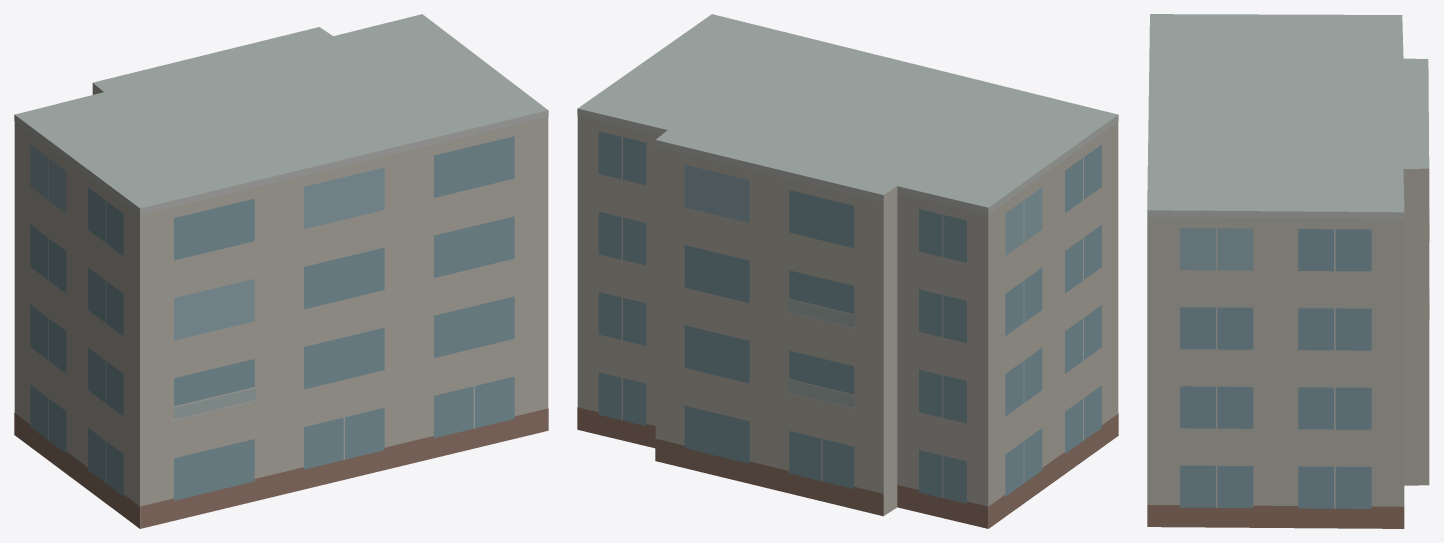
The model's file is survey-upis-32912326.glb.
The picture shows the model from 3 angles, left to right: view 1: azimuth 30°, elevation 25°; view 2: azimuth 150°, elevation 25°; view 3: azimuth 270°, elevation 25°; orthographic projection.
Visible parts, largest first — view 1: survey-upis-32912326.tmp; view 2: survey-upis-32912326.tmp; view 3: survey-upis-32912326.tmp.
Boxes of the visible parts, box(x1,y1,x2,y2) form: survey-upis-32912326.tmp: box(14, 14, 548, 528); survey-upis-32912326.tmp: box(577, 14, 1118, 528); survey-upis-32912326.tmp: box(1147, 14, 1429, 528).
Size of the model in its own units: 15.72 by 11.7 by 9.47.
